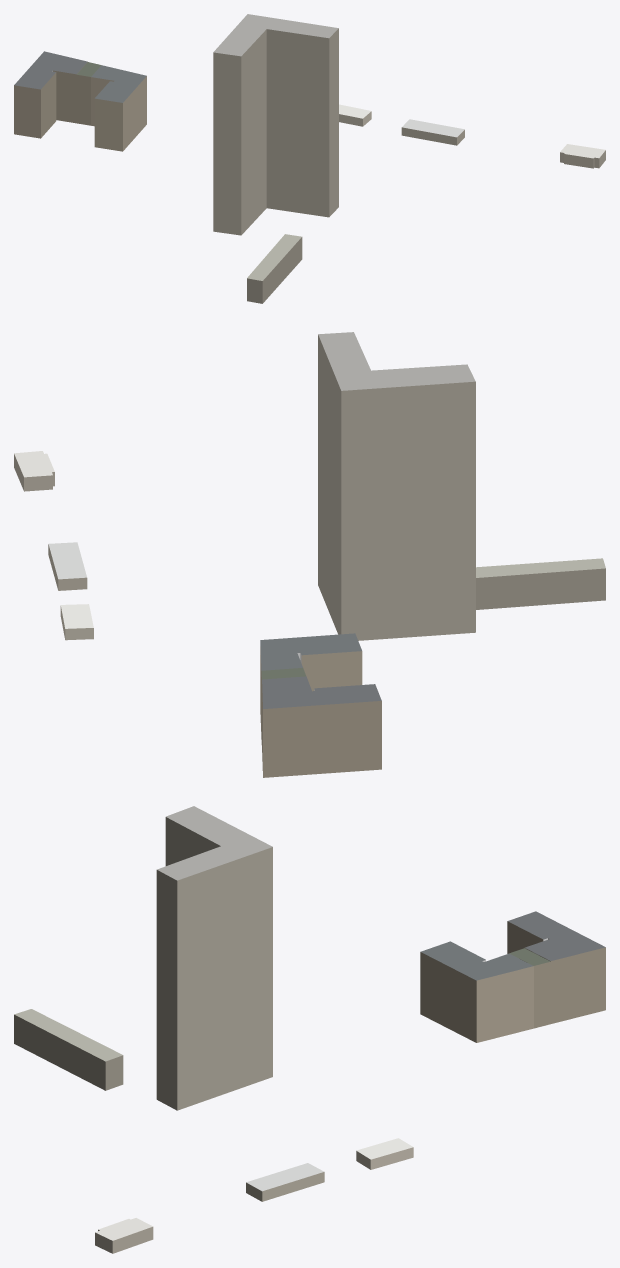
3 views of the same model, one above another, from view 1: azimuth 30°, elevation 25°; view 2: azimuth 150°, elevation 25°; view 3: azimuth 270°, elevation 25° (orthographic). The views are drawn at different scales.
Visible parts, largest first — view 1: tuile; view 2: tuile; view 3: tuile.
Part boxes in pixels (x1=…): tuile: x1=14, y1=14, x2=605, y2=303; tuile: x1=14, y1=332, x2=605, y2=777; tuile: x1=14, y1=806, x2=605, y2=1253.
Bounding box in the file's own units: 238 × 104 × 222.
